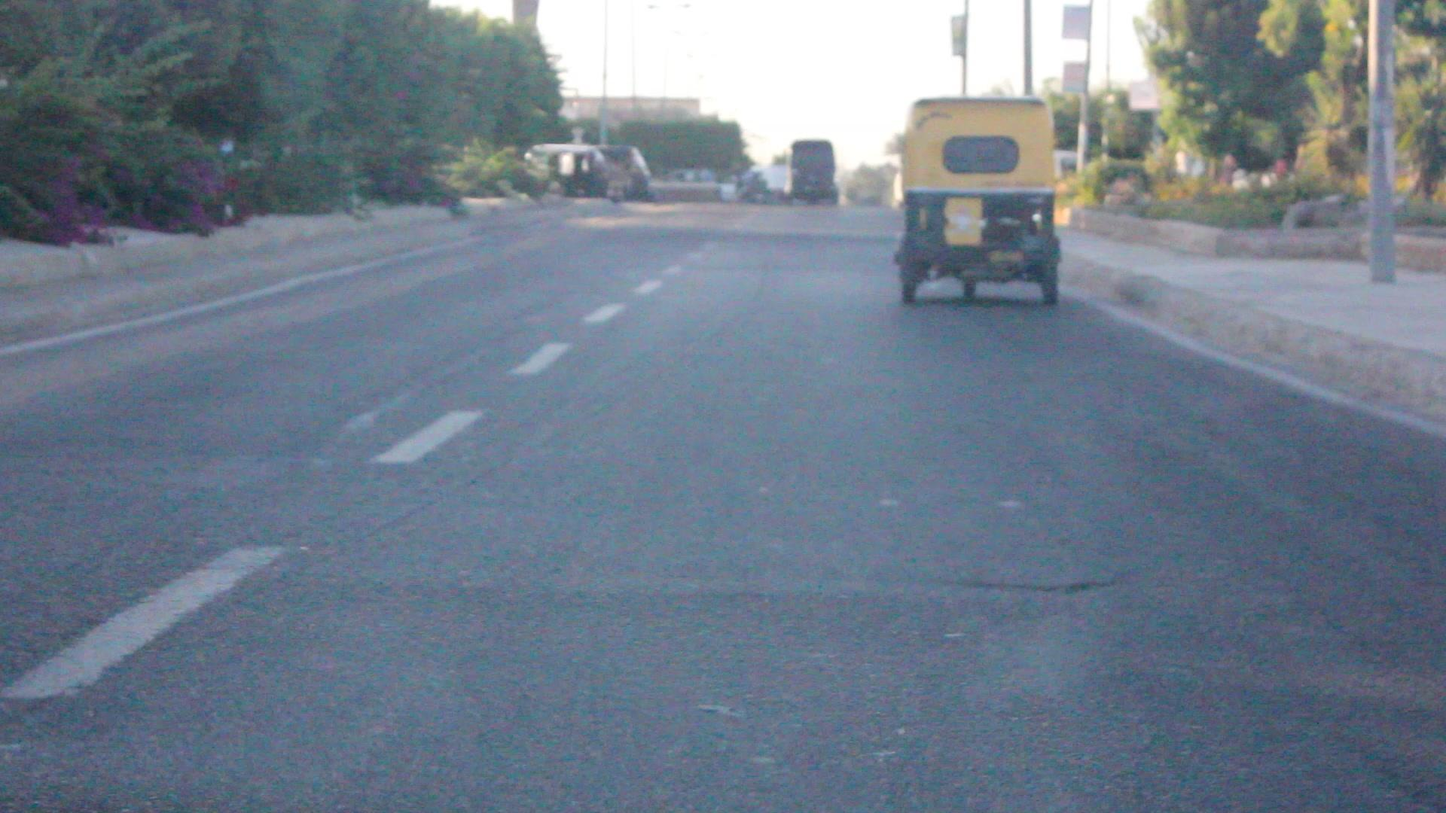Bump: (518, 201, 924, 254)
